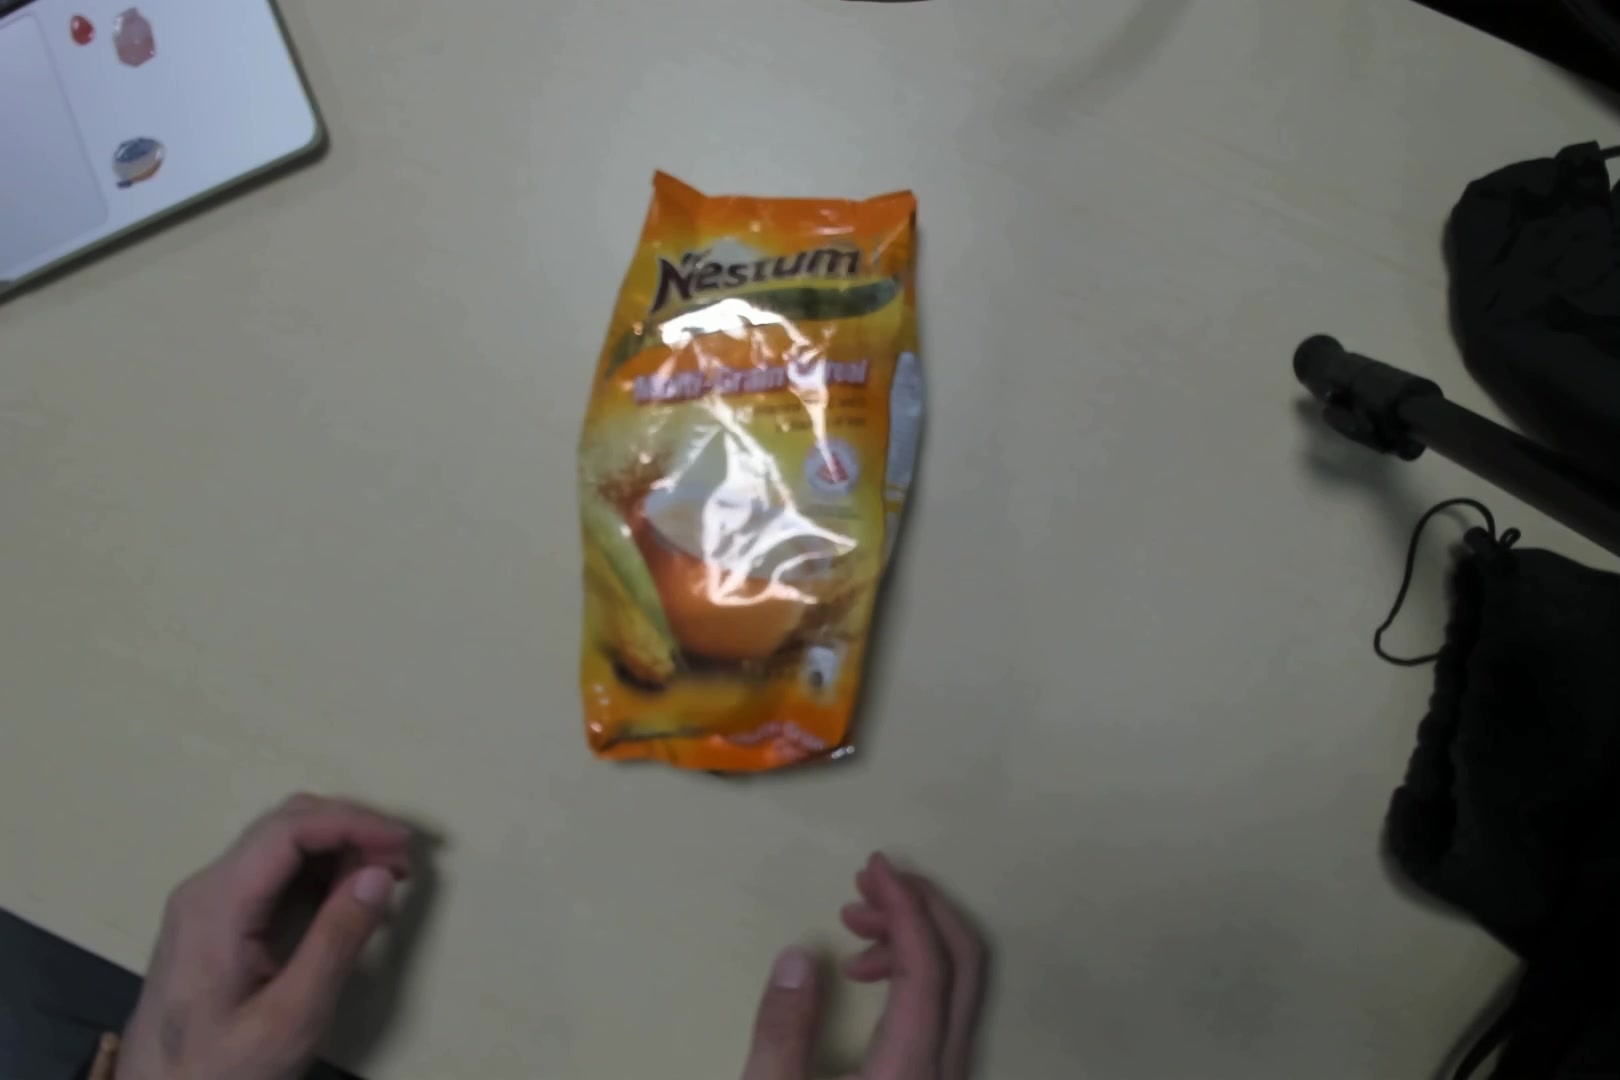RolledOatsInstantOatmeal_200-299g_NonHalal_Healthy: (567, 165, 932, 788)
